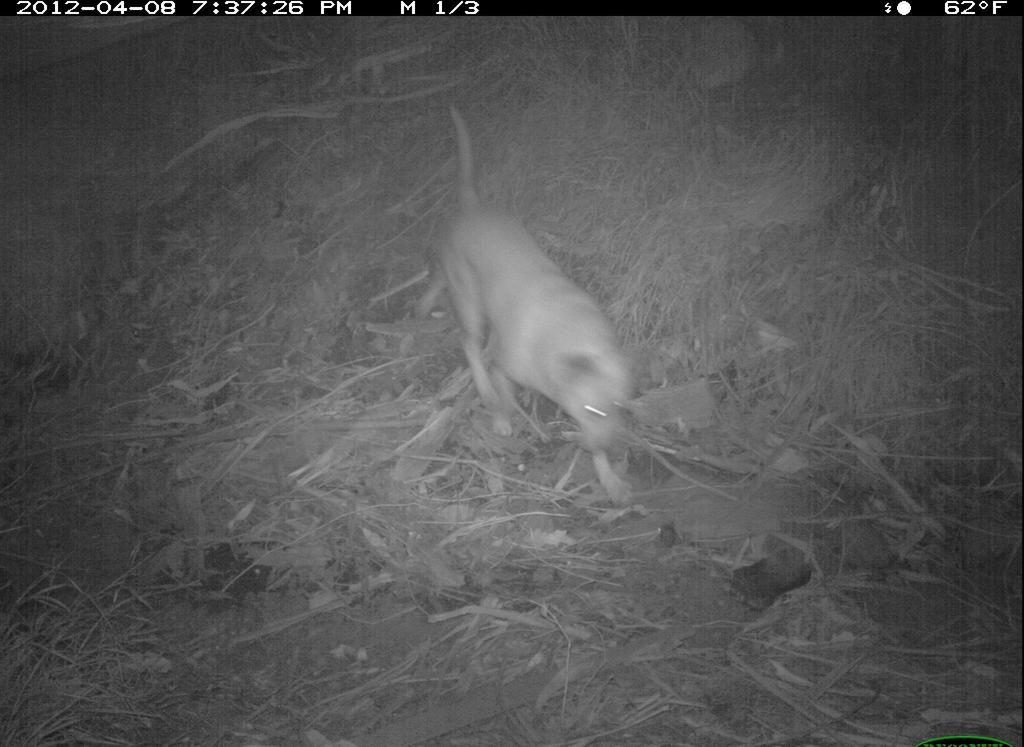dog: (396, 97, 656, 548)
